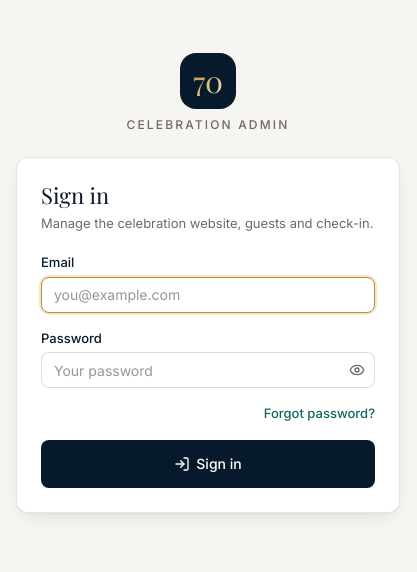
Test: LoginPage › shows a clear message for RATE_LIMITED
Step 1. Type "admin@demo.local" into the field labelled "Email" → {"x": 208, "y": 295}, box [41,277,375,313]
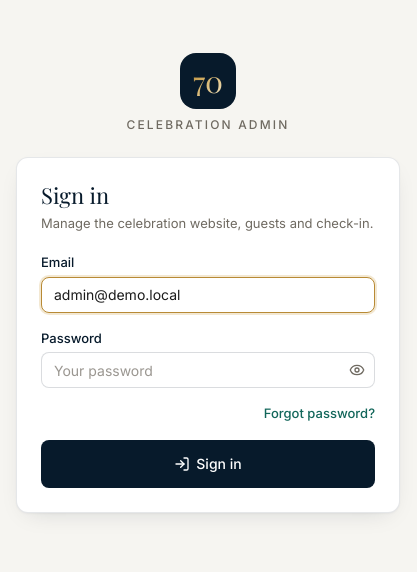
Step 2. Type "wrong-password" into the password field labelled "Password" → {"x": 208, "y": 370}, box [41,352,375,388]
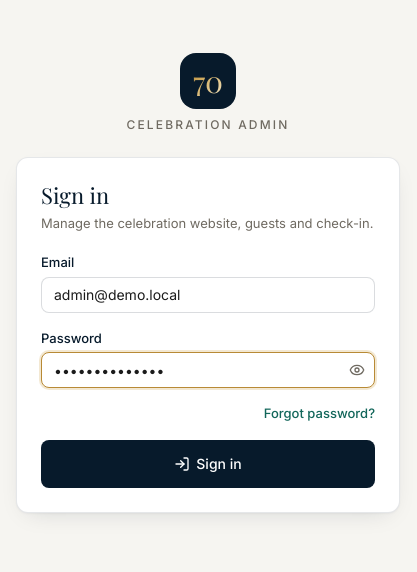
Step 3. Click the button "Sign in" → {"x": 208, "y": 464}, box [41,440,375,488]
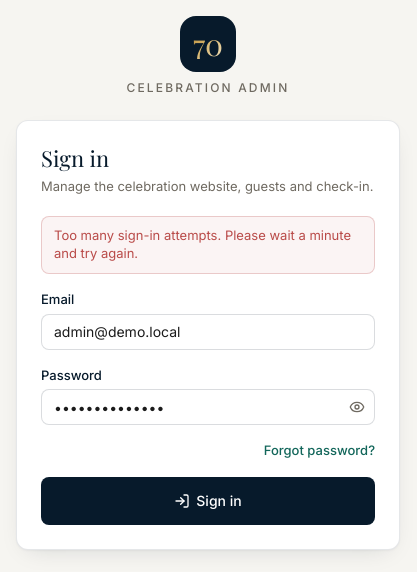
Expected: the message shows "Too many sign-in attempts", [54,227,351,261]
